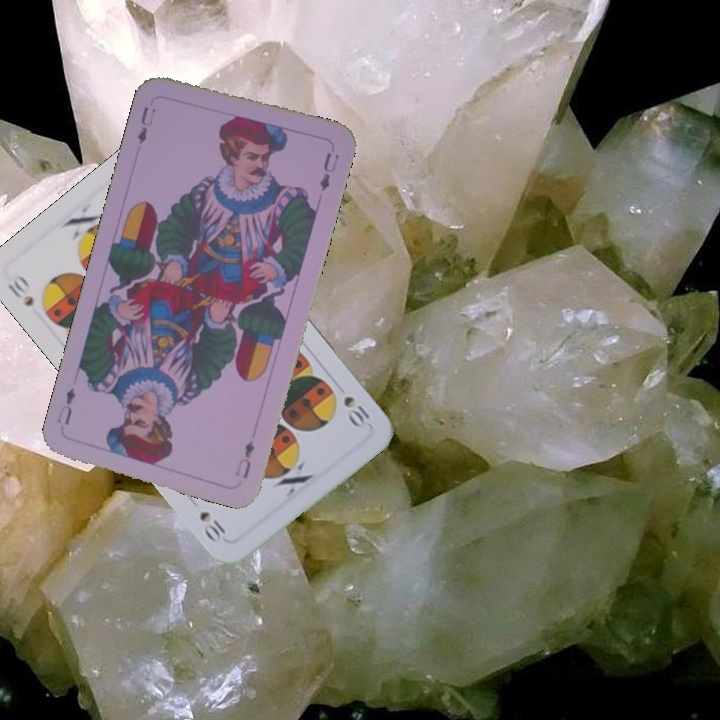EU: (231, 436, 257, 481), (133, 102, 158, 147)
S10: (339, 391, 373, 431), (3, 270, 37, 310)
